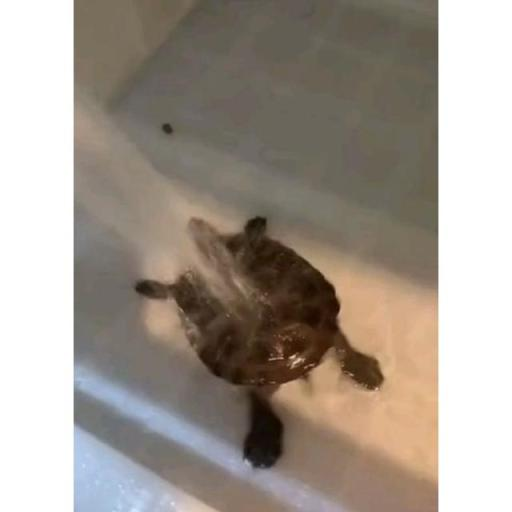turtle: (135, 215, 381, 469)
